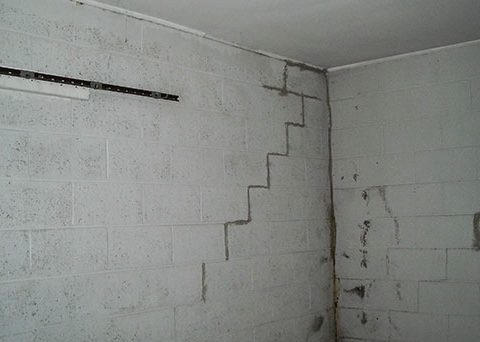stairstep_crack: (200, 90, 301, 298)
